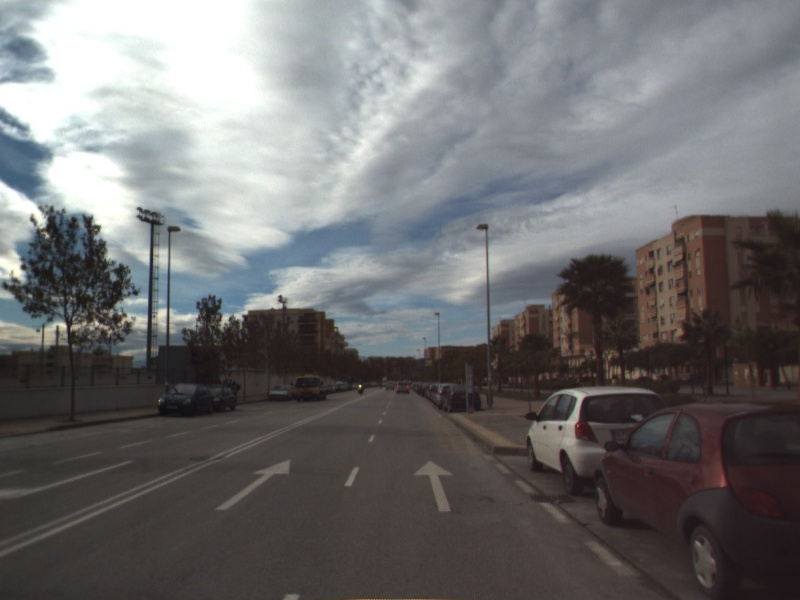STRAIGHT: (213, 457, 292, 512), (411, 458, 455, 513)
